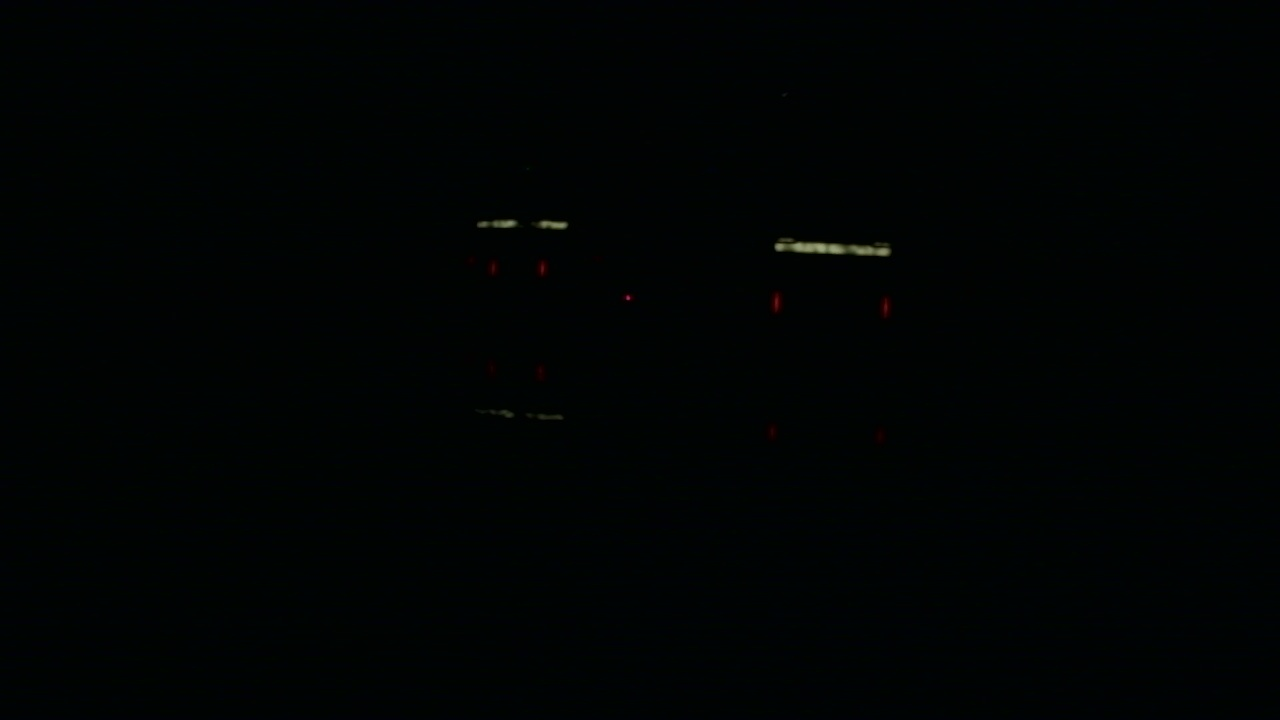lamp: (882, 294, 890, 316), (773, 289, 779, 316), (540, 260, 547, 272), (490, 261, 496, 272)
pair1: (490, 262, 546, 272)
pair2: (774, 291, 891, 322)
